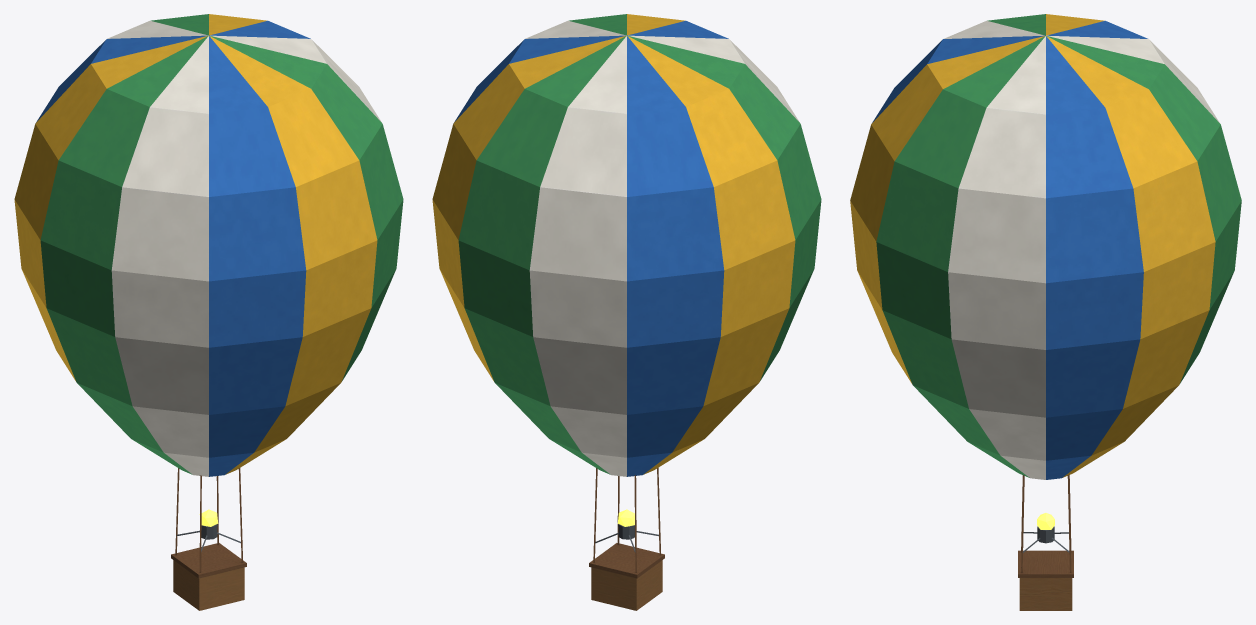
File: ballong_2_tex.glb
The picture shows the model from 3 angles, left to right: view 1: azimuth 30°, elevation 25°; view 2: azimuth 150°, elevation 25°; view 3: azimuth 270°, elevation 25°; orthographic projection.
Parts seen in each view (by area): view 1: ballong_2; view 2: ballong_2; view 3: ballong_2.
Boxes of the visible parts, box(x1,y1,x2,y2) form: ballong_2: box(14, 14, 403, 610); ballong_2: box(432, 14, 821, 610); ballong_2: box(850, 14, 1241, 610).
Size of the model in its own units: 11.2 by 17.8 by 11.2.
Materials: 8 (6 with a texture image).
